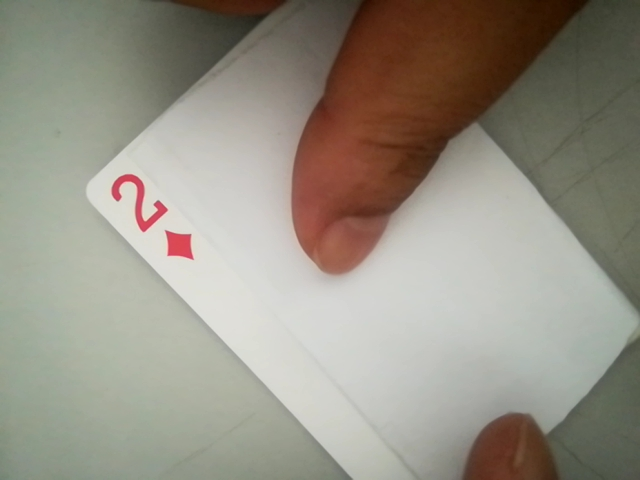fk 2: (101, 165, 206, 271)
